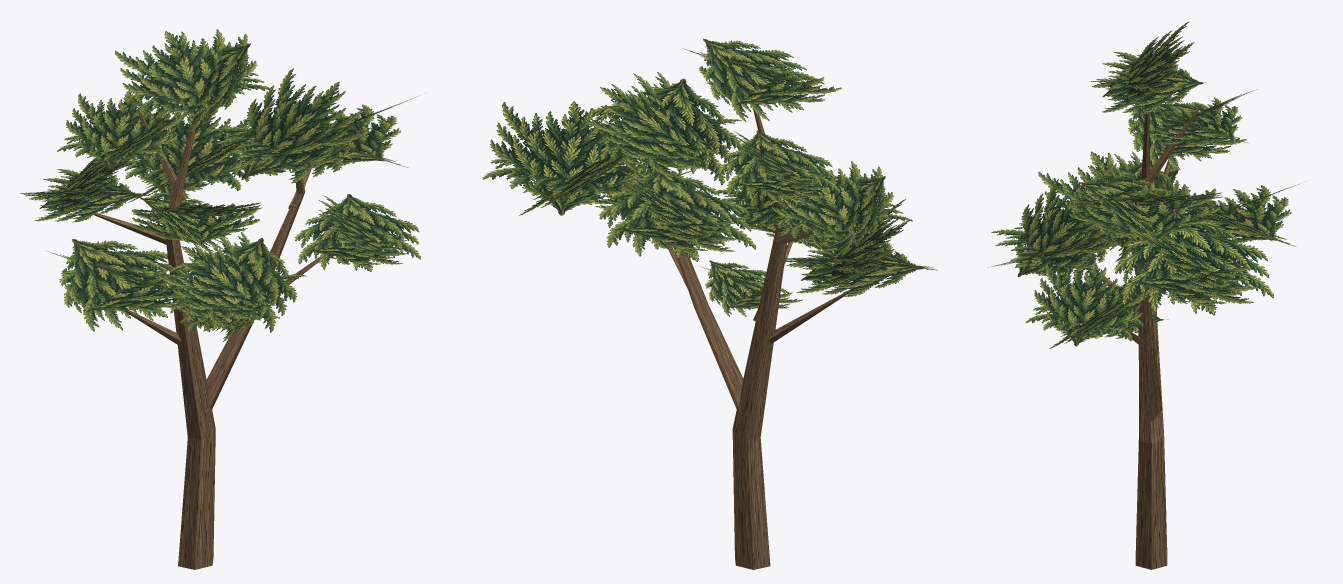
Rendered from Betulla_03_Espansa.obj.
3 renders of one model, left to right at view 1: azimuth 30°, elevation 25°; view 2: azimuth 150°, elevation 25°; view 3: azimuth 270°, elevation 25°, orthographic.
Visible parts, largest first — view 1: Betulla_03_Espansa; view 2: Betulla_03_Espansa; view 3: Betulla_03_Espansa.
Boxes of the visible parts, box(x1,y1,x2,y2) form: Betulla_03_Espansa: box(19, 29, 420, 569); Betulla_03_Espansa: box(482, 38, 937, 569); Betulla_03_Espansa: box(988, 22, 1298, 569).
Size of the model in its own units: 6.96 by 8.04 by 5.07.
